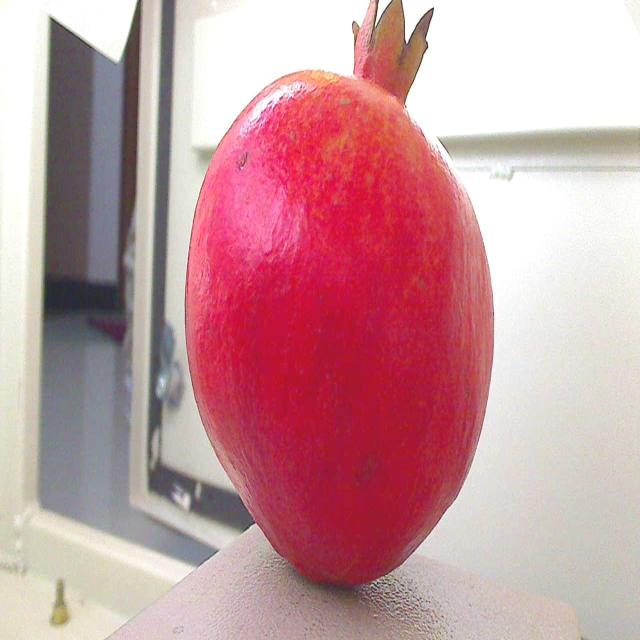pomegranate: (178, 0, 501, 594)
